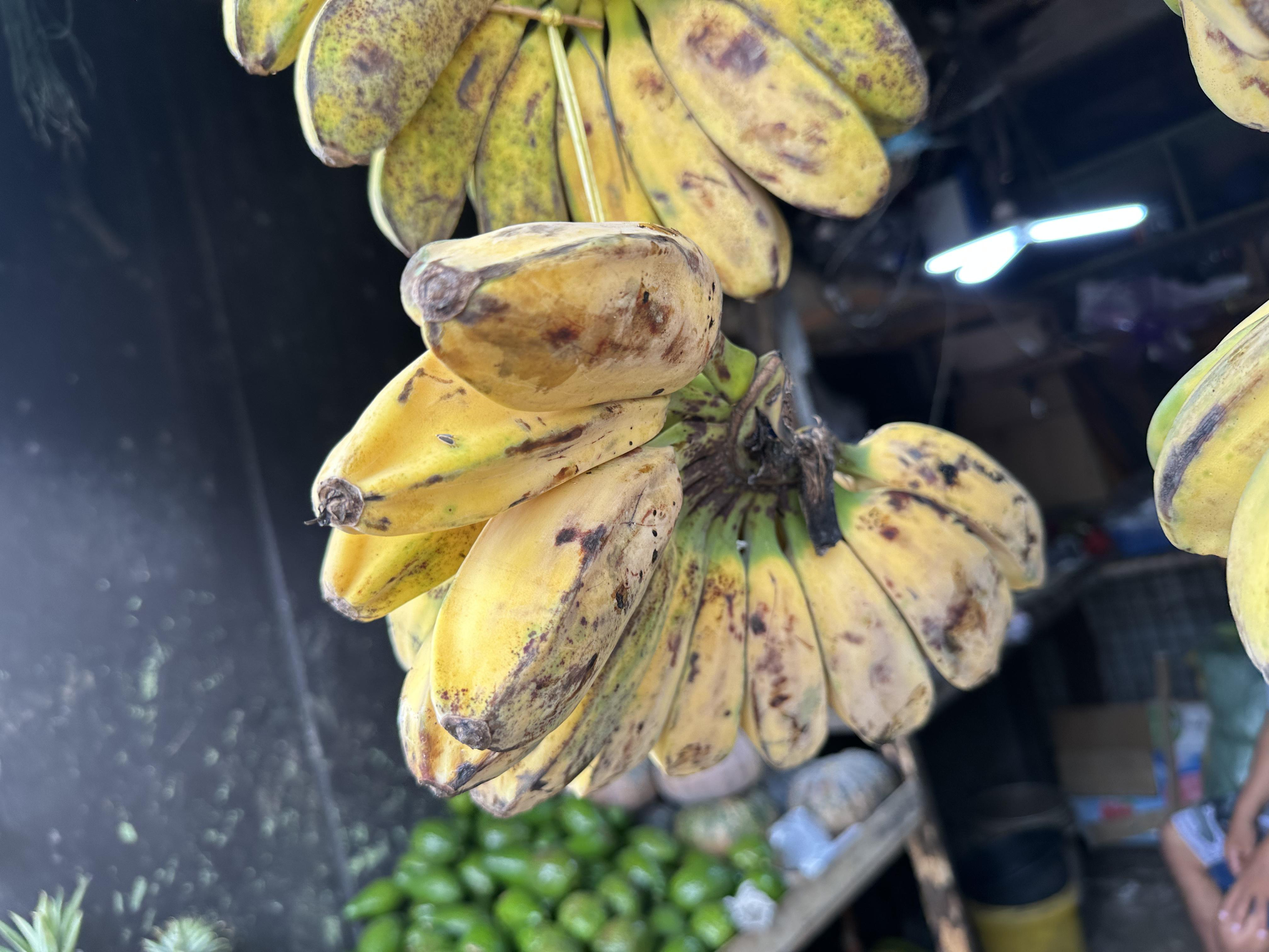ripe: (1145, 298, 1269, 690)
underripe: (311, 220, 1047, 819), (222, 0, 929, 303)
